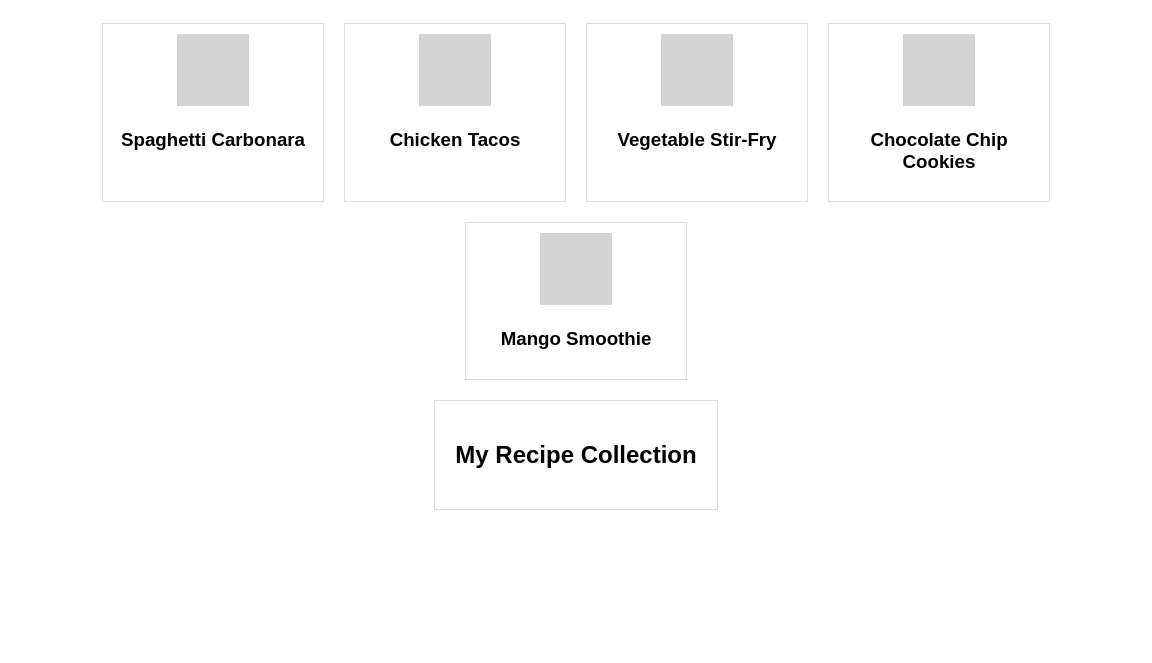
Test: App › displays delete button during the on click of 'Save to Collection' button for the list of recipes › displays_delete_button_for_spaghetti_carbonara
The width and height of the screenshot is (1152, 663).
Click the heading "Spaghetti Carbonara" at (213, 140), box [113,129,313,151]
(page scrolled)
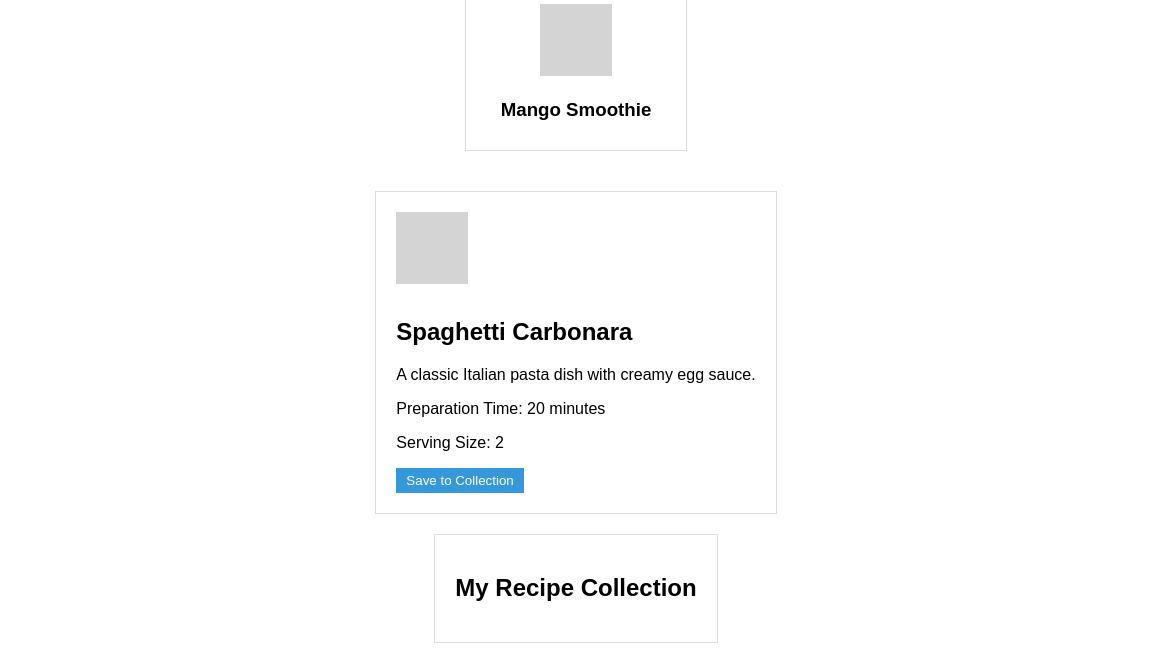
expect the button "Save to Collection" is shown: met
Click the button "Save to Collection" at (460, 480), box [396,468,524,493]
(page scrolled)
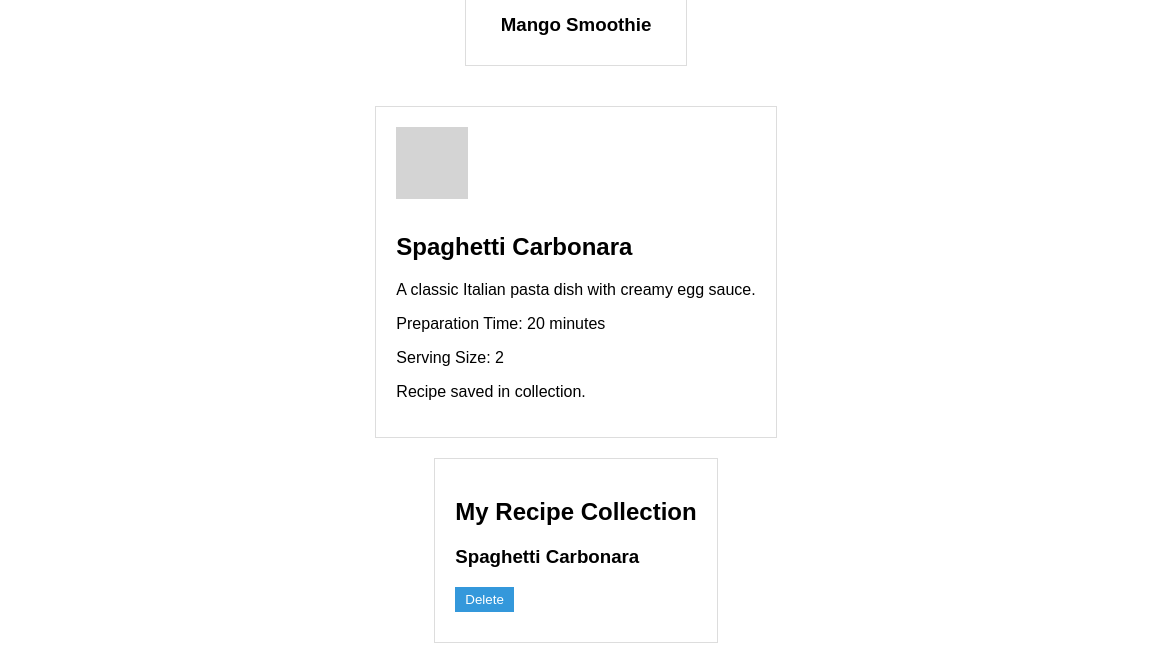
expect the button "Delete" is shown: met, box [455,587,514,612]
